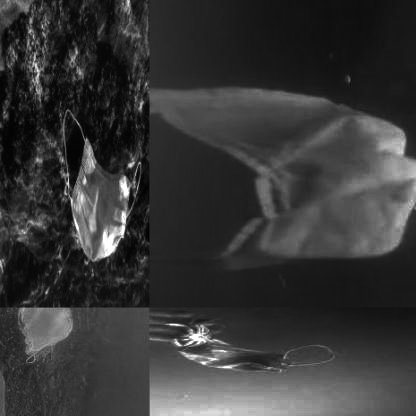Mask: (150, 79, 415, 279), (64, 99, 142, 263), (155, 319, 370, 377), (19, 307, 75, 366)
